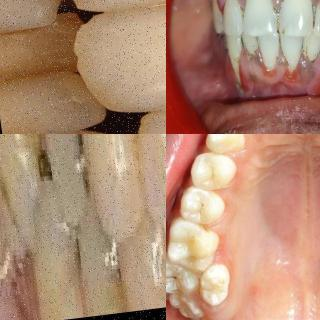Gum Swelling: (272, 50, 320, 96), (239, 49, 278, 85)
calculus: (269, 0, 285, 34), (237, 0, 256, 22), (229, 78, 247, 95), (310, 0, 320, 29), (234, 33, 248, 51)
cavities: (166, 264, 184, 292)
maligned: (0, 8, 94, 85), (0, 0, 66, 38), (201, 266, 229, 304)
stains: (256, 34, 280, 71), (279, 38, 303, 74), (300, 39, 320, 69), (208, 5, 230, 30), (240, 36, 258, 61)
